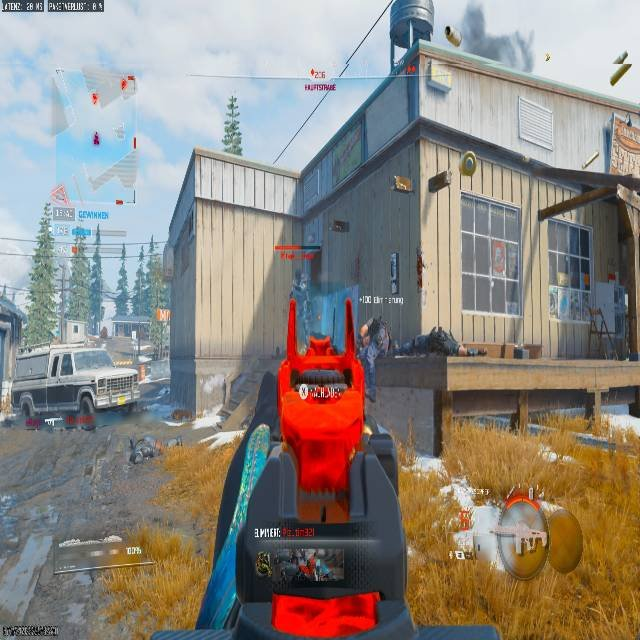player: (287, 267, 314, 334), (290, 269, 308, 303)
